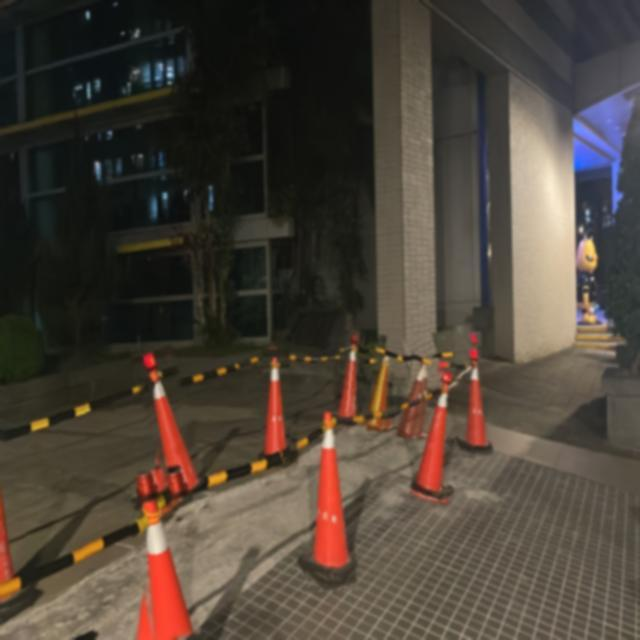traffic cone: (96, 492, 212, 640), (120, 499, 203, 640), (299, 412, 357, 587), (147, 366, 203, 497), (409, 373, 455, 506), (254, 357, 297, 468), (456, 362, 494, 454), (260, 357, 291, 463), (0, 477, 24, 608), (333, 338, 366, 426), (397, 360, 432, 441), (366, 352, 395, 432)
